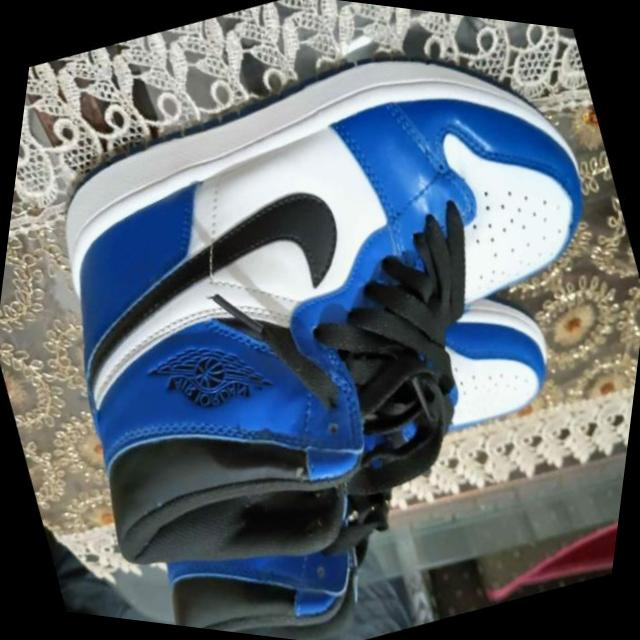nike_fake_jordan: (0, 0, 640, 640), (87, 237, 639, 640)
